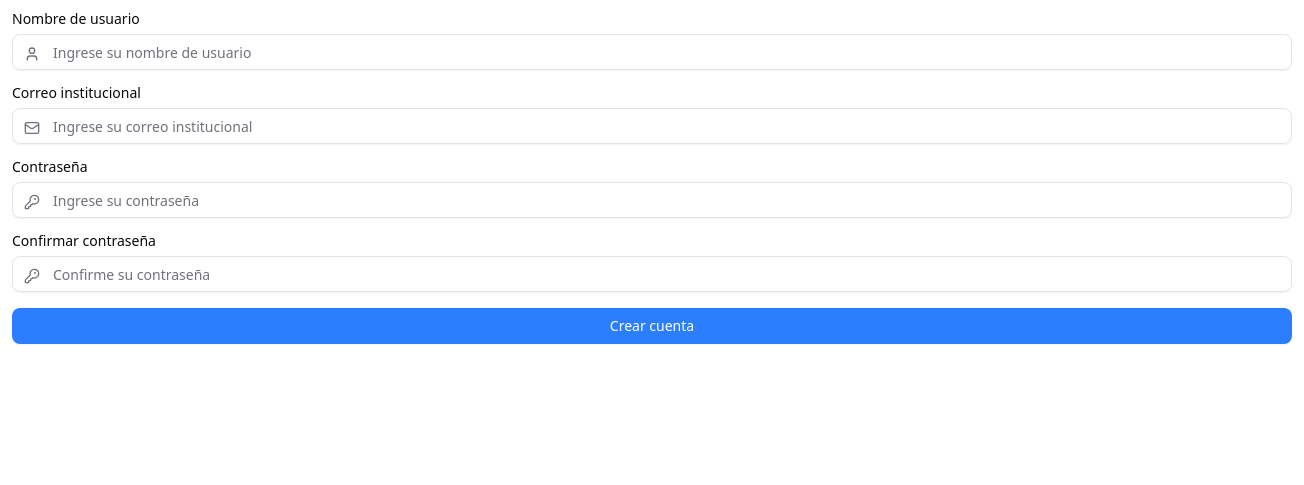
Scenario: SignupForm › shows validation errors for mismatched passwords
In the field with test id "signup-email-input": (652, 126) x1=12 y1=108 x2=1292 y2=144, type "test@example.com"
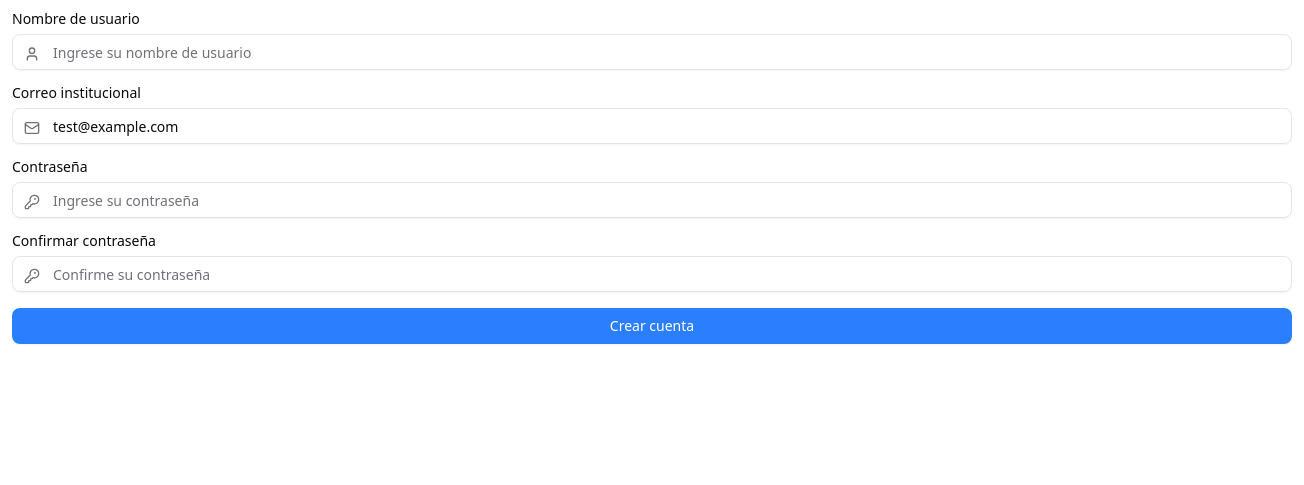
In the password field with test id "signup-password-input": (652, 200) x1=12 y1=182 x2=1292 y2=218, type "password123"
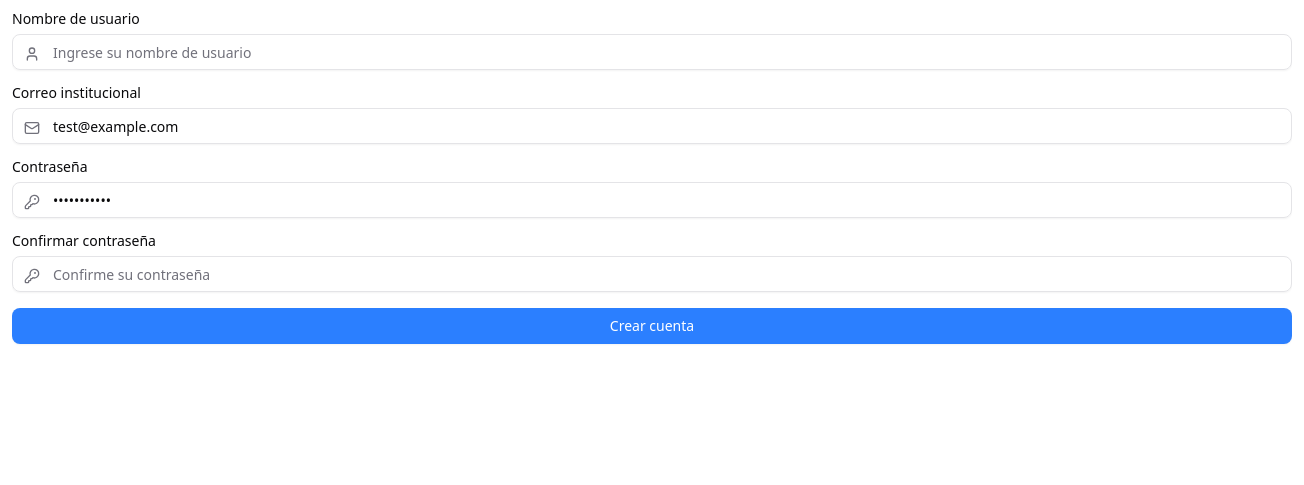
In the password field with test id "confirm-password-input": (652, 274) x1=12 y1=256 x2=1292 y2=292, type "differentpassword"
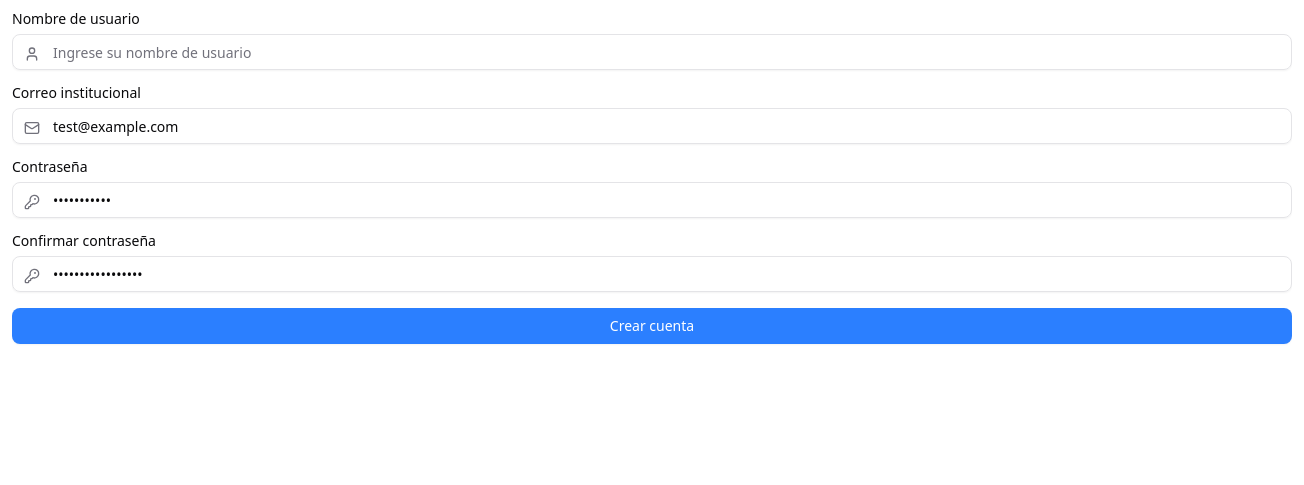
Click the button with test id "signup-submit": (652, 326) x1=12 y1=308 x2=1292 y2=344
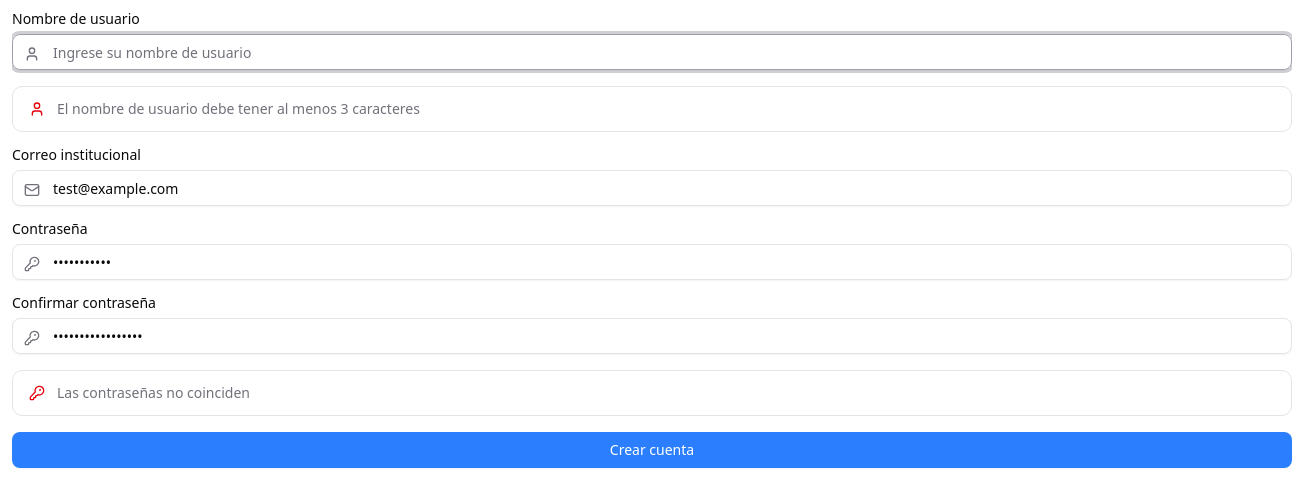
Check: the element with test id "confirm-password-error" is shown, box x1=12 y1=370 x2=1292 y2=416
Check: the text "Las contraseñas no coinciden" is shown, box x1=57 y1=383 x2=250 y2=402
